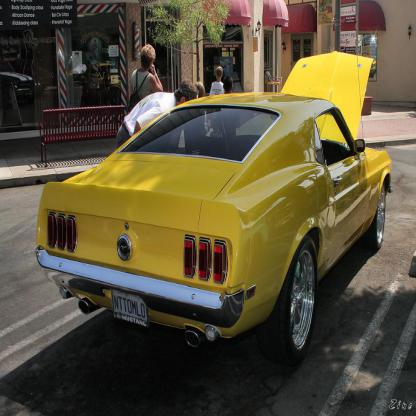Car: (35, 51, 393, 366)
